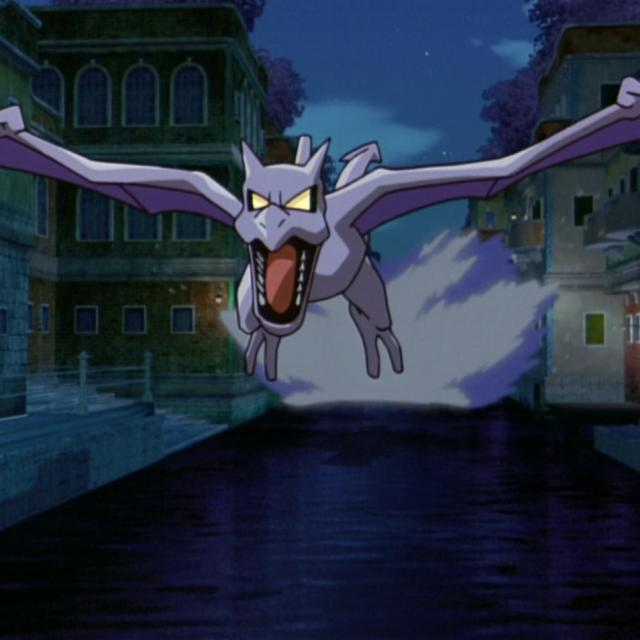Aerodactyl: (138, 138, 512, 380)
